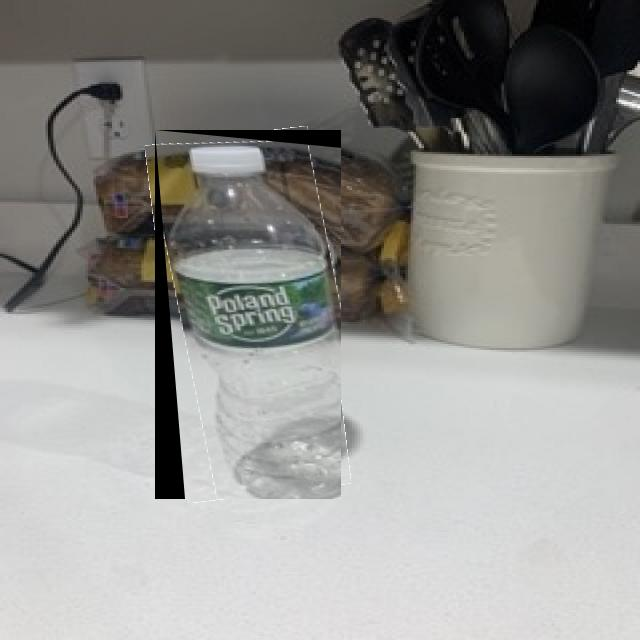water_bottle: (155, 130, 341, 499)
